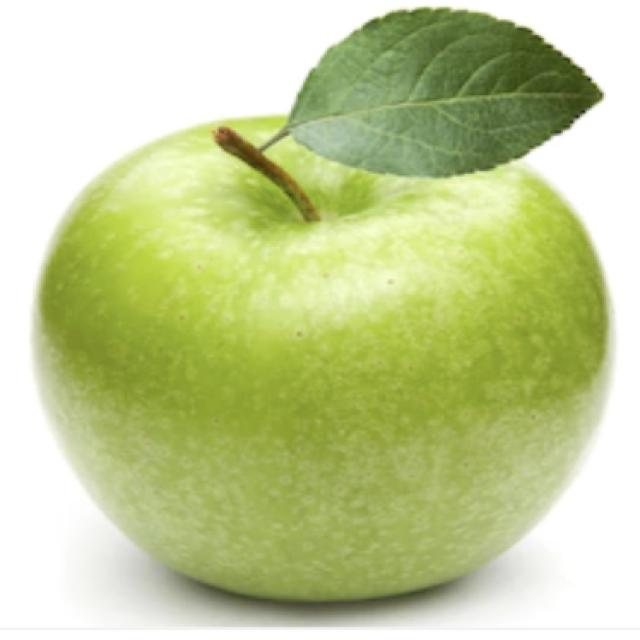Apel: (25, 108, 620, 611)
